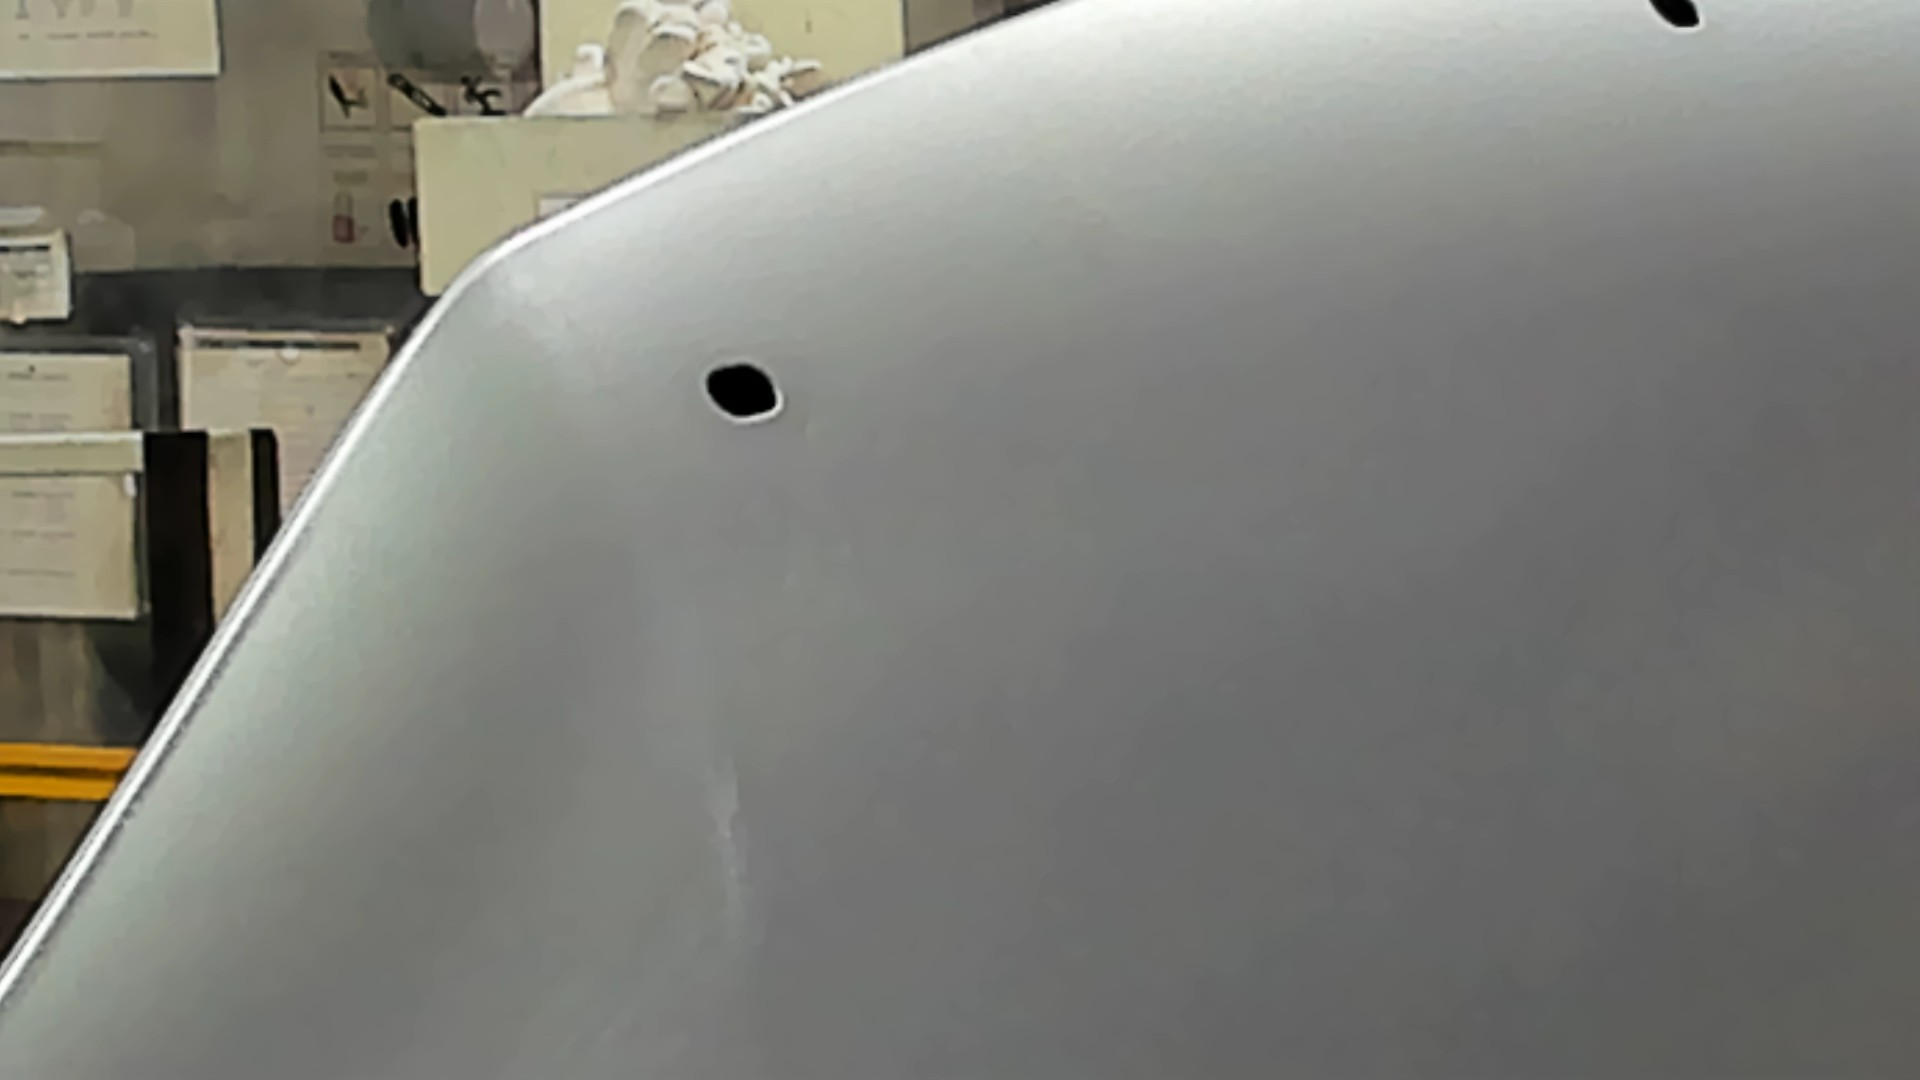amorfo: (695, 353, 795, 427), (1644, 1, 1713, 41)
capo: (887, 124, 1920, 1080)
